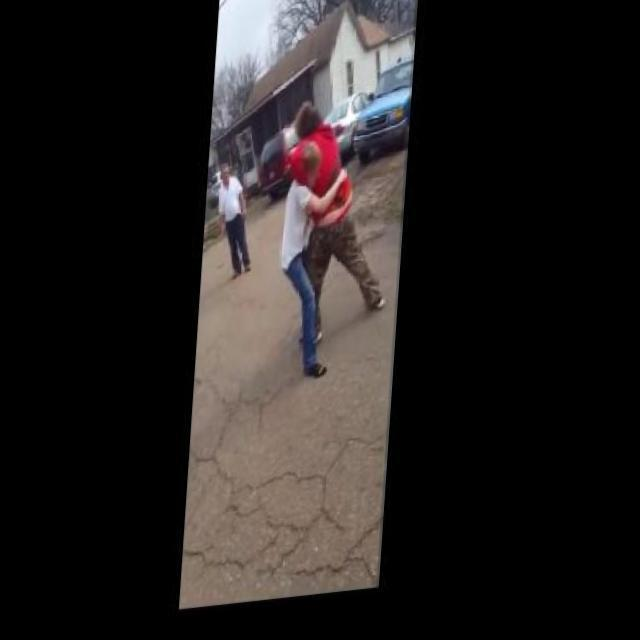fight: (272, 105, 402, 393)
